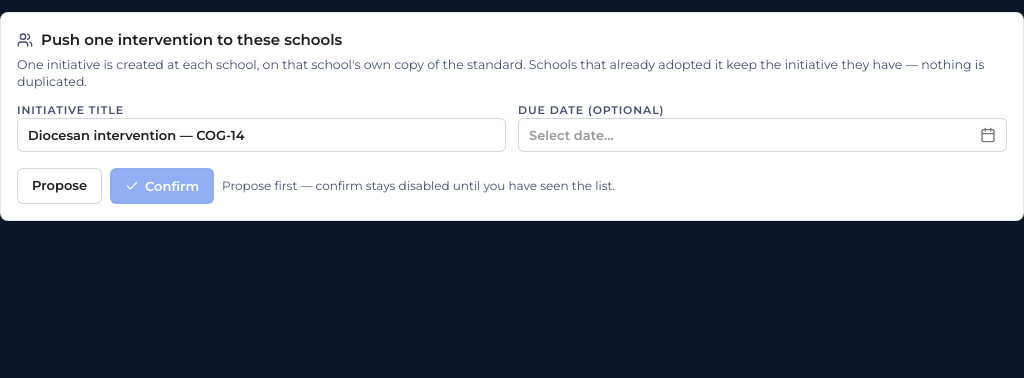
Test: WEB-5 — bulk adopt cannot be confirmed before it has been proposed › confirm is disabled on mount and enabled only once a proposal has arrived
Check: the button "Confirm" is disabled, box [110,168,214,204]
Click the button "Propose".
click(60, 186)  # box [17,168,102,204]
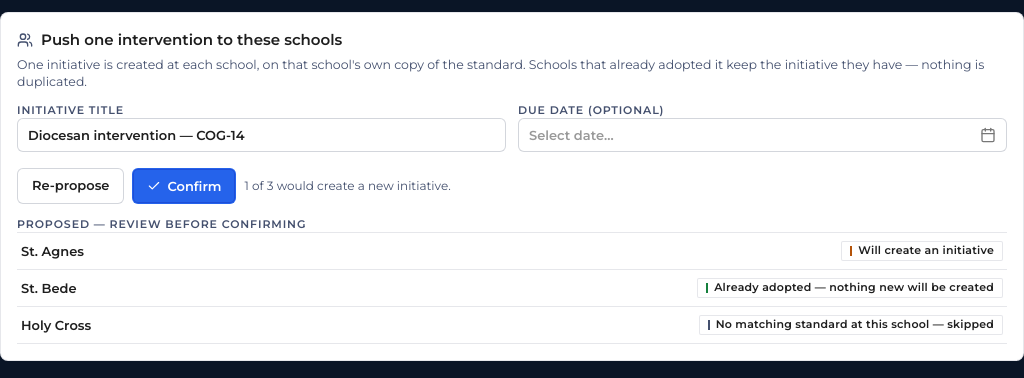
Check: the button "Confirm" is enabled, box [132,168,236,204]
